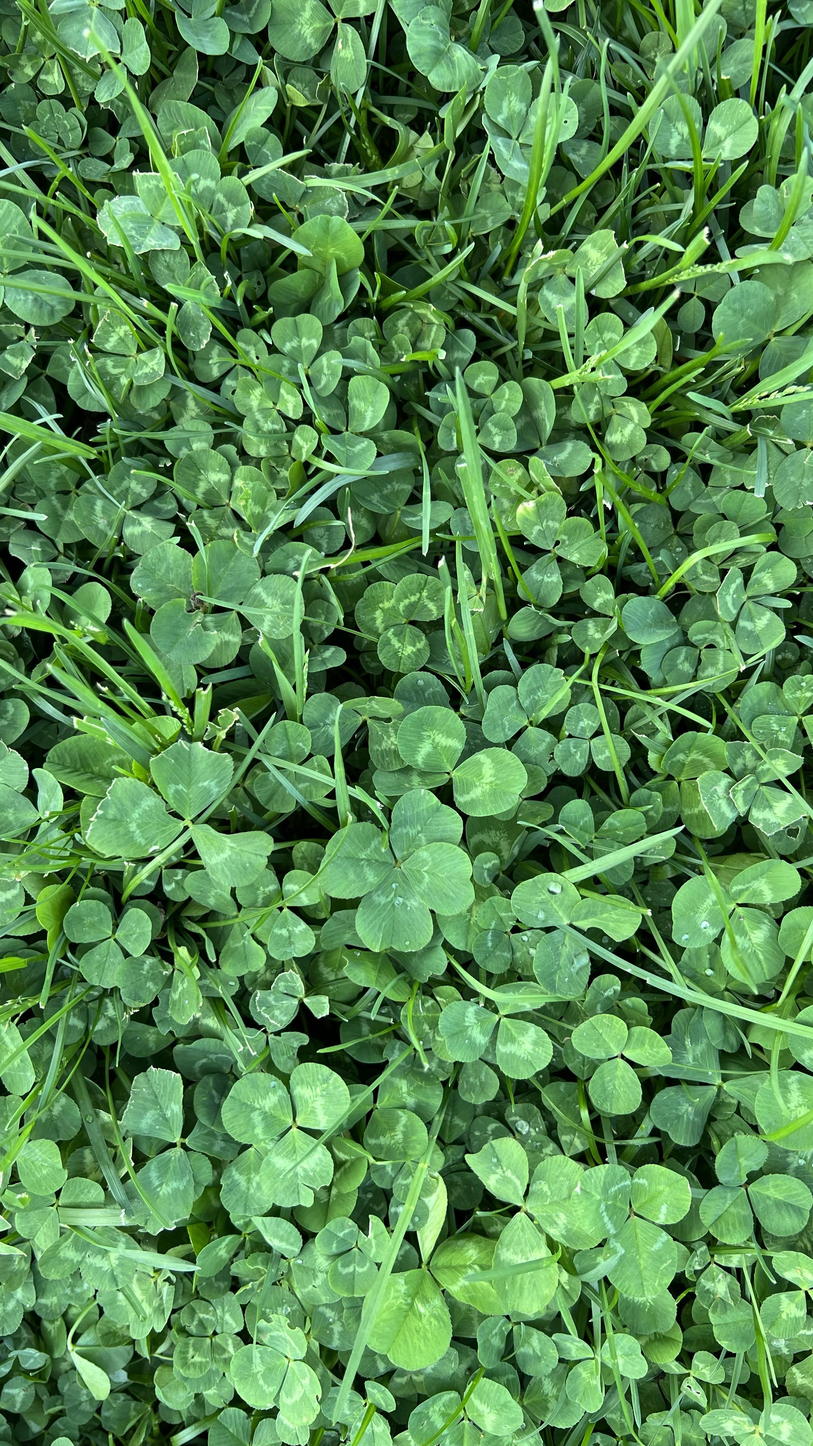4-Leaf-Clovers: (447, 604, 536, 875)
